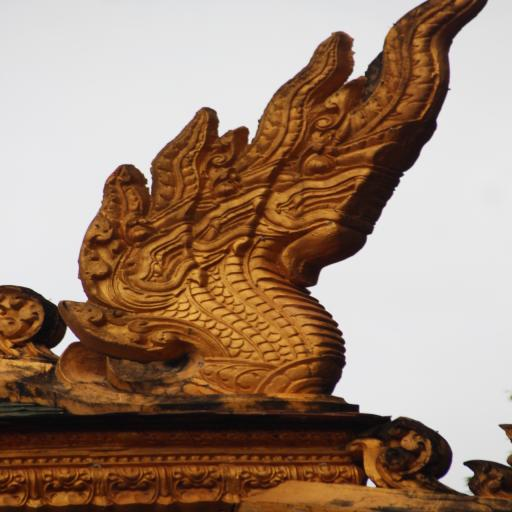la: (91, 462, 159, 506), (154, 461, 222, 502), (226, 458, 290, 500), (32, 468, 90, 506), (295, 461, 354, 487), (0, 468, 36, 510)
ran: (0, 2, 476, 397)
